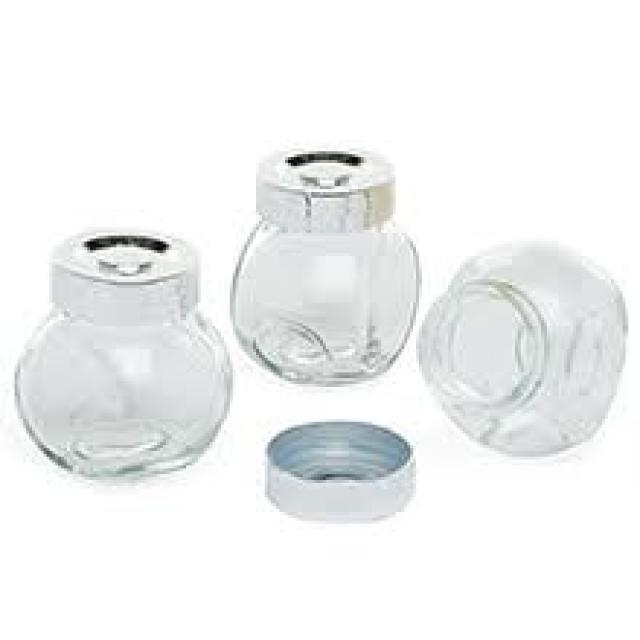glass: (413, 241, 623, 454), (9, 306, 227, 477), (227, 218, 413, 381)
metal: (262, 416, 413, 521), (52, 221, 192, 314), (253, 145, 390, 230)
